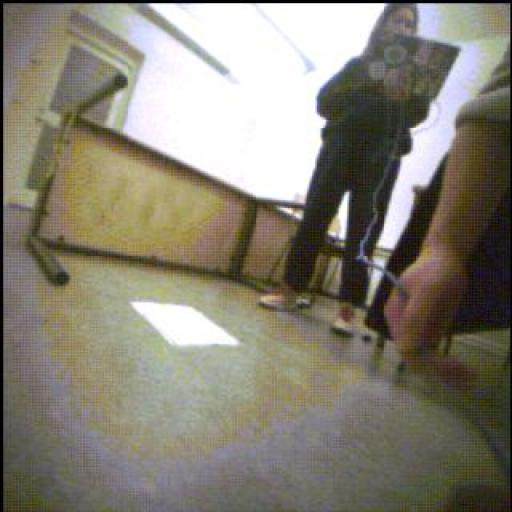Pad: (131, 299, 234, 354)
